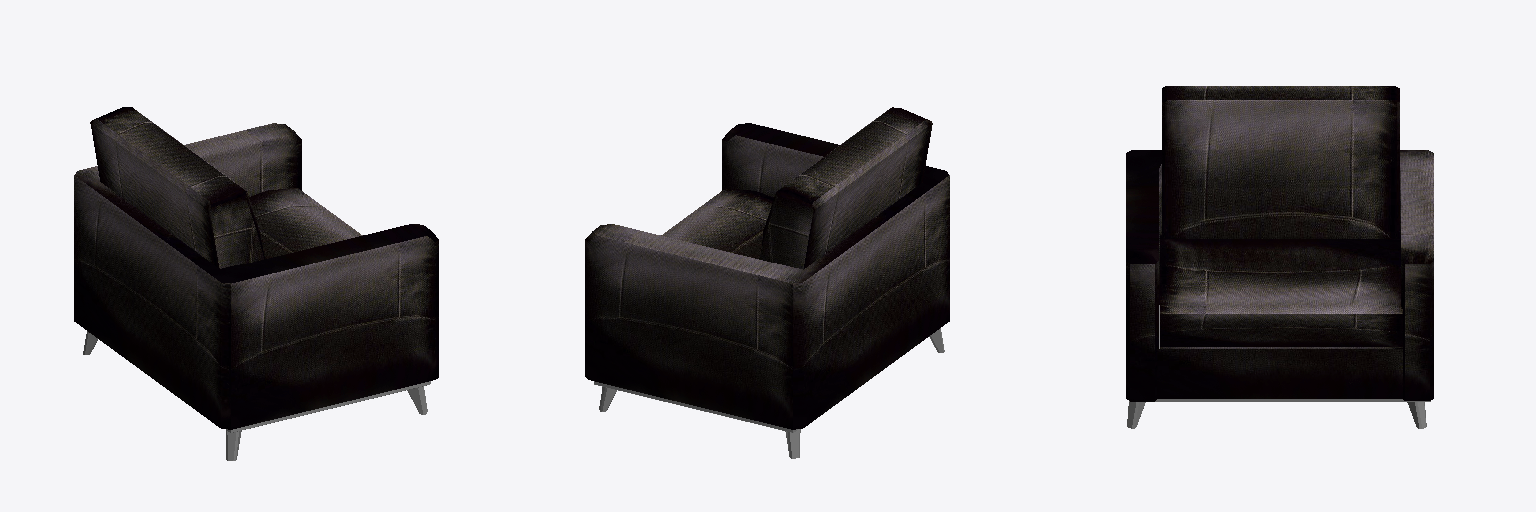
3 renders of one model, left to right at view 1: azimuth 30°, elevation 25°; view 2: azimuth 150°, elevation 25°; view 3: azimuth 270°, elevation 25°, orthographic.
Visible parts, largest first — view 1: Box1766, Box1765; view 2: Box1766, Box1765; view 3: Box1766, Box1767, Box1765.
Boxes of the visible parts, box(x1,y1,x2,y2) form: Box1766: box(74, 107, 438, 429); Box1765: box(83, 331, 430, 460); Box1766: box(585, 107, 949, 429); Box1765: box(594, 328, 944, 458); Box1766: box(1126, 86, 1433, 401); Box1767: box(1157, 349, 1402, 398); Box1765: box(1127, 305, 1430, 428).
Bounding box in the file's own units: 69.5 × 76.82 × 85.51.
Materials: 2 (1 with a texture image).